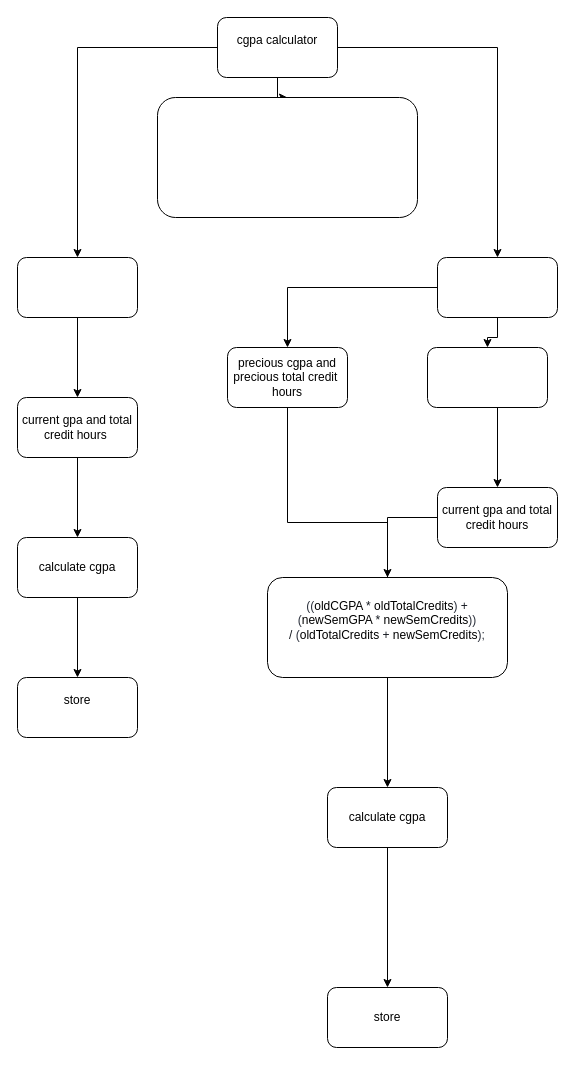
Some shapes in this 575 by 1065 pixel diagram are drawn without their labels. The shapes that lost their labels are listed below. From the top down, each one's centre as x and y in pixels, then its label:
At (287,157): "CGPA = Σ(semester GPA × semester credit hours) / Σ(semester credit hours)".
At (77,287): "no history".
At (497,287): "history".
At (487,377): "calculate gpa".
